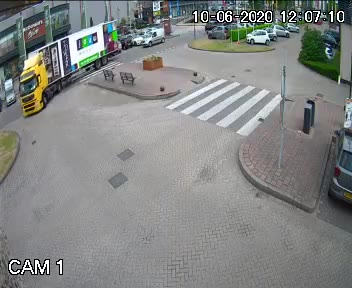car: (13, 16, 130, 108), (138, 30, 168, 46), (202, 14, 220, 31)
